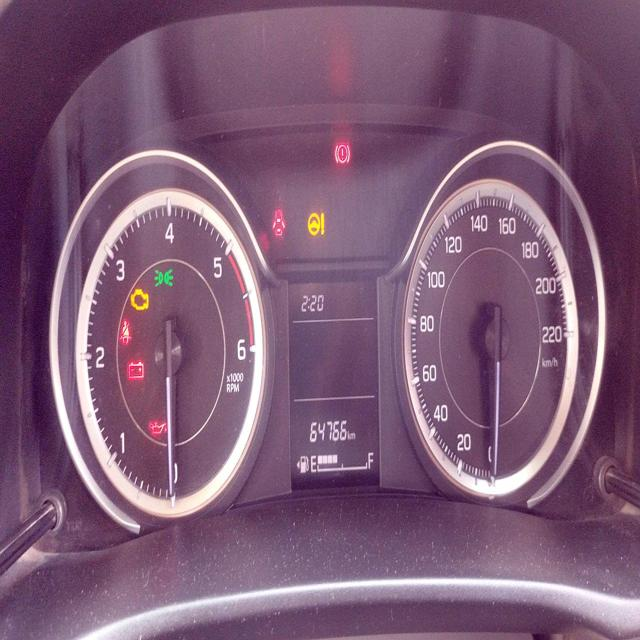odometer: (308, 415, 348, 443)
